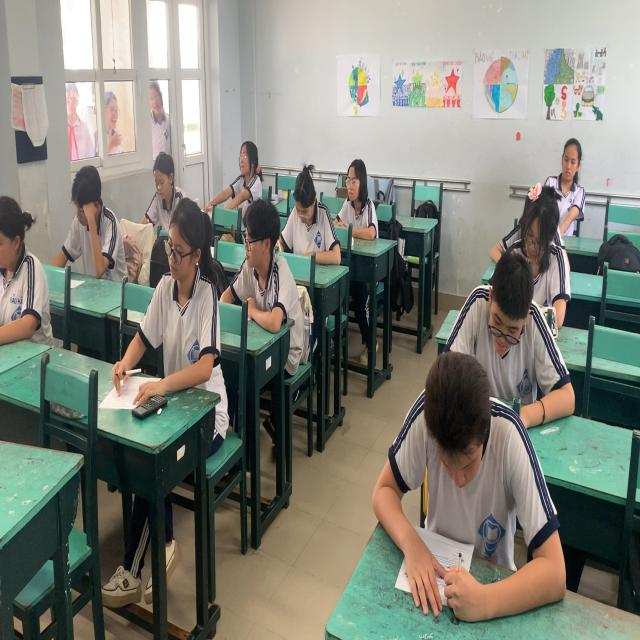not_cheating: (364, 378, 571, 546), (121, 190, 231, 428), (444, 250, 564, 453), (209, 169, 308, 368), (46, 153, 138, 335), (498, 178, 575, 354), (272, 134, 358, 288), (334, 127, 420, 276), (130, 127, 216, 270), (0, 184, 61, 384), (203, 93, 285, 232), (543, 114, 583, 292)
